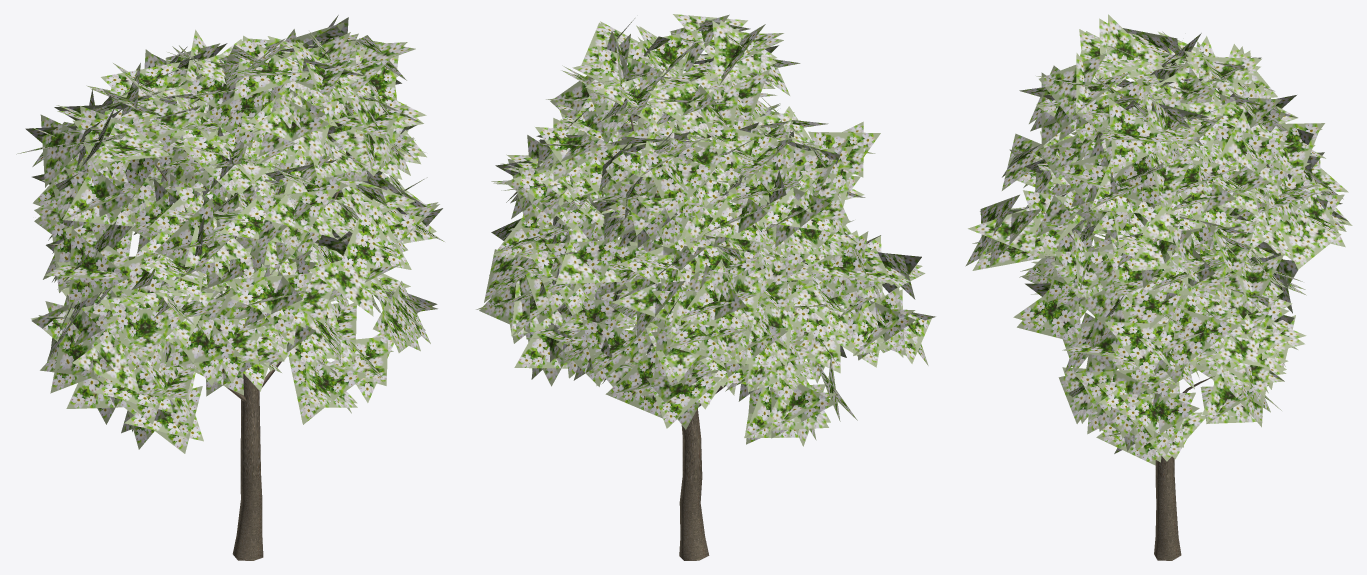
Rendered from Cornus_Florida_Spring_Young.glb.
The picture shows the model from 3 angles, left to right: view 1: azimuth 30°, elevation 25°; view 2: azimuth 150°, elevation 25°; view 3: azimuth 270°, elevation 25°; orthographic projection. The views are drawn at different scales.
Parts seen in each view (by area): view 1: Cornus_Florida_Spring_Young__LOD3; view 2: Cornus_Florida_Spring_Young__LOD3; view 3: Cornus_Florida_Spring_Young__LOD3.
Part boxes in pixels (left/top/right/bottom): Cornus_Florida_Spring_Young__LOD3: left=16, top=15, right=444, bottom=560; Cornus_Florida_Spring_Young__LOD3: left=476, top=14, right=935, bottom=560; Cornus_Florida_Spring_Young__LOD3: left=965, top=14, right=1352, bottom=560.
Bounding box in the file's own units: 2.54 × 3.16 × 2.13.
Materials: 2 (2 with a texture image).
